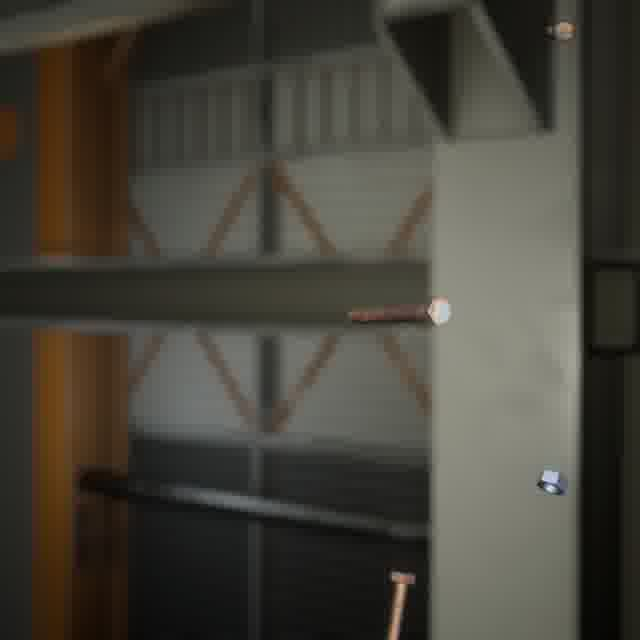bolt: (344, 293, 456, 329), (381, 565, 419, 640), (542, 16, 578, 47)
nut: (531, 464, 574, 499)
